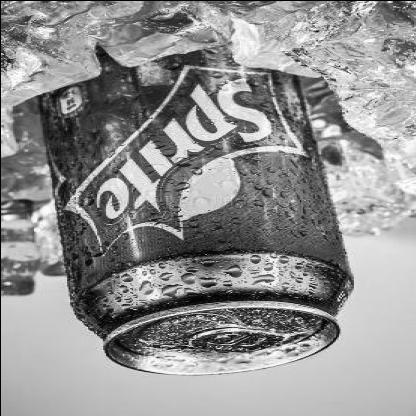alumunium_can: (36, 57, 354, 375)
